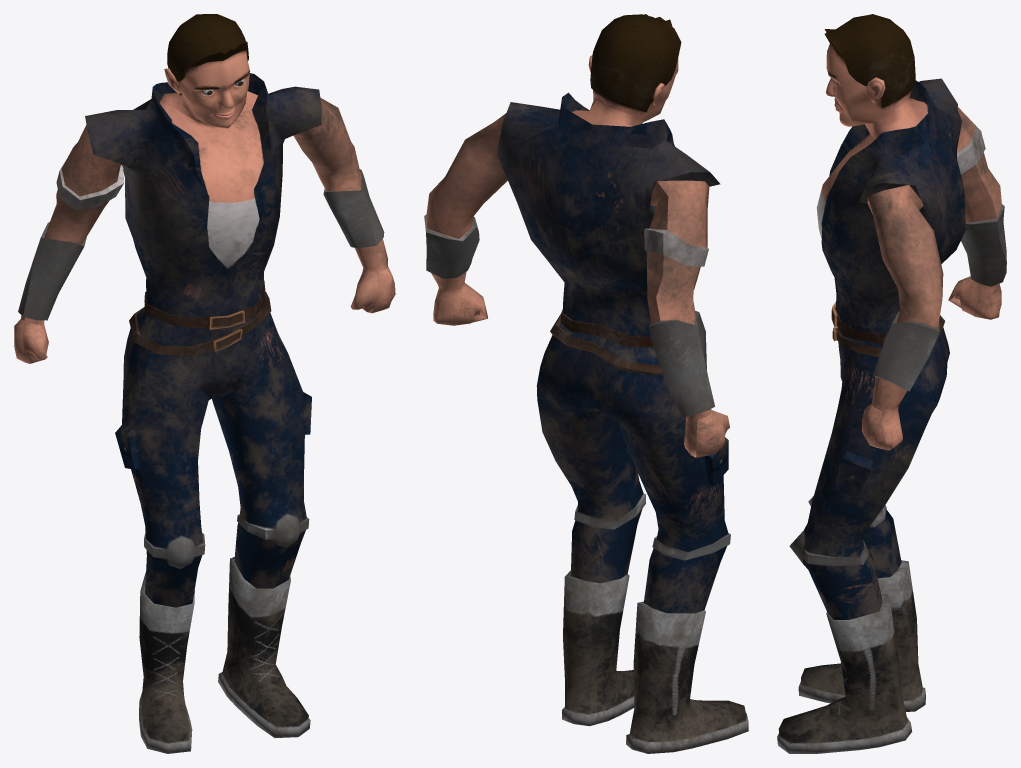
Rendered from Anim_recibirdanyo_jugador.0024.obj.
The picture shows the model from 3 angles, left to right: view 1: azimuth 30°, elevation 25°; view 2: azimuth 150°, elevation 25°; view 3: azimuth 270°, elevation 25°; orthographic projection. The views are drawn at different scales.
Parts seen in each view (by area): view 1: polySurface1; view 2: polySurface1; view 3: polySurface1.
Part boxes in pixels (x1,y1,x2,y2): polySurface1: (14,14,395,753); polySurface1: (424,14,748,753); polySurface1: (777,14,1006,753).
Size of the model in its own units: 4.67 by 9.45 by 2.79.
